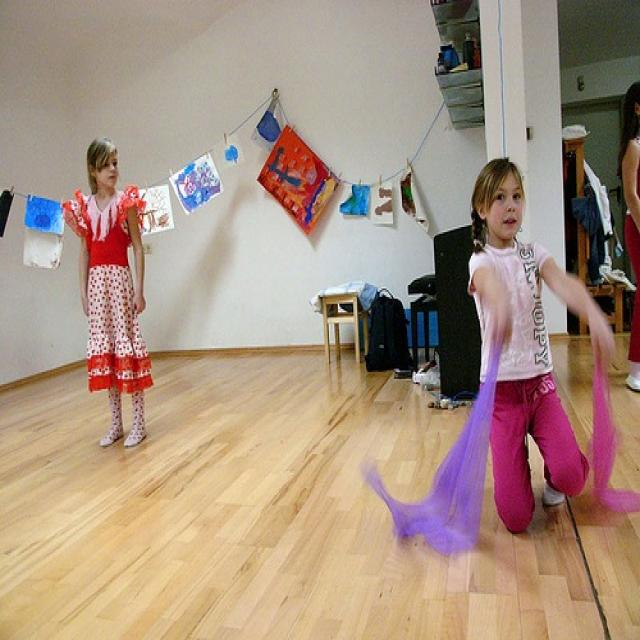child: (466, 156, 618, 536), (77, 135, 154, 450)
